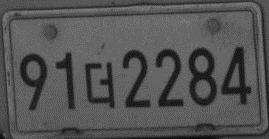1: (51, 51, 83, 113)
2: (154, 48, 186, 109), (121, 48, 151, 109)
4: (219, 45, 252, 105)
8: (187, 47, 217, 106)
9: (18, 53, 48, 113)
더: (84, 60, 117, 109)
